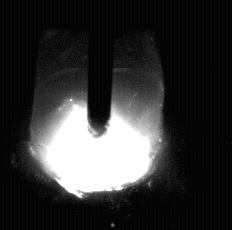arame: (88, 0, 112, 138)
poca: (31, 0, 165, 230)
